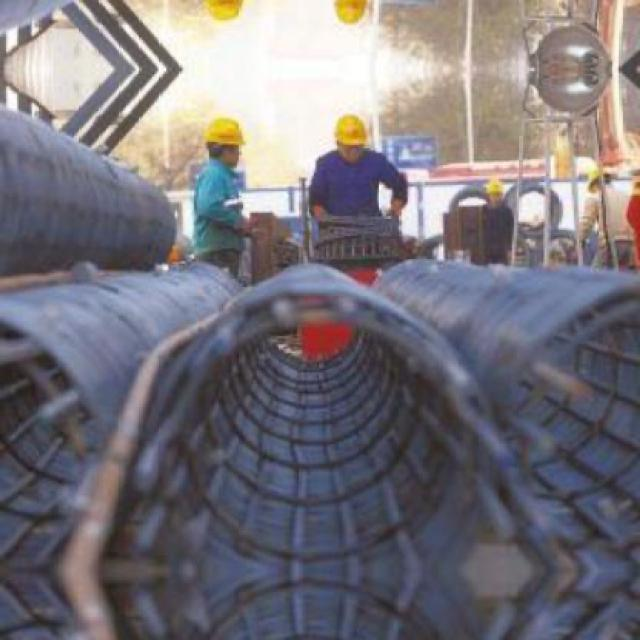con casco: (318, 91, 397, 162), (205, 113, 274, 189)
